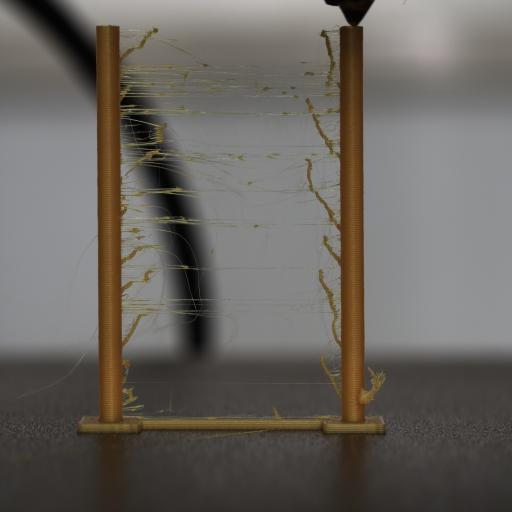stringing: (122, 22, 341, 352)
